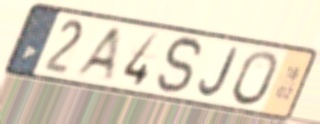2: (41, 18, 86, 77)
4: (118, 30, 160, 88)
A: (69, 25, 125, 81)
J: (196, 45, 241, 99)
O: (229, 48, 281, 108)
S: (153, 34, 206, 96)
